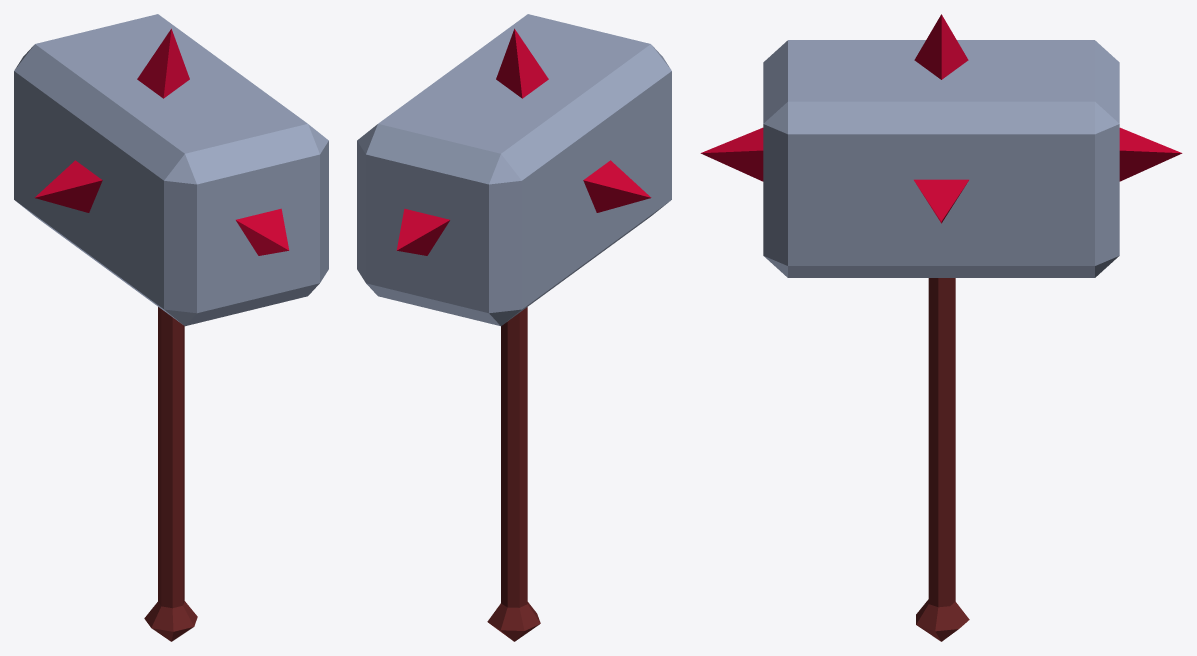
File: Hammer.glb
3 views of the same model, side by side, from view 1: azimuth 30°, elevation 25°; view 2: azimuth 150°, elevation 25°; view 3: azimuth 270°, elevation 25° (orthographic). The views are drawn at different scales.
Parts seen in each view (by area): view 1: Cylinder, Cylinder.004, Cylinder.001; view 2: Cylinder, Cylinder.004, Cylinder.001; view 3: Cylinder, Cylinder.004, Cylinder.001.
Part boxes in pixels (x1,y1,x2,y2): Cylinder: [14, 14, 328, 326]; Cylinder.004: [144, 307, 197, 641]; Cylinder.001: [34, 28, 289, 255]; Cylinder: [357, 14, 671, 326]; Cylinder.004: [487, 307, 540, 641]; Cylinder.001: [396, 28, 651, 255]; Cylinder: [763, 40, 1119, 277]; Cylinder.004: [916, 278, 969, 641]; Cylinder.001: [700, 14, 1182, 223].
Size of the model in its own units: 0.9008 by 1.93 by 1.34.
